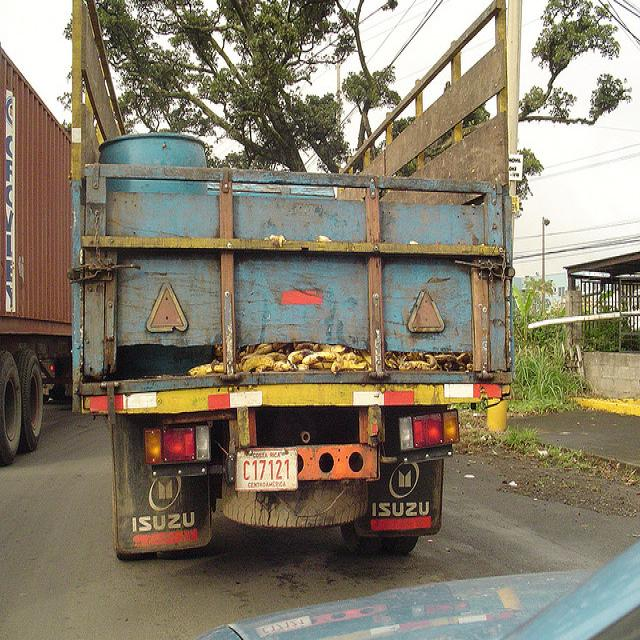Vehicle: (69, 0, 520, 561), (220, 546, 637, 628), (2, 42, 73, 467)
